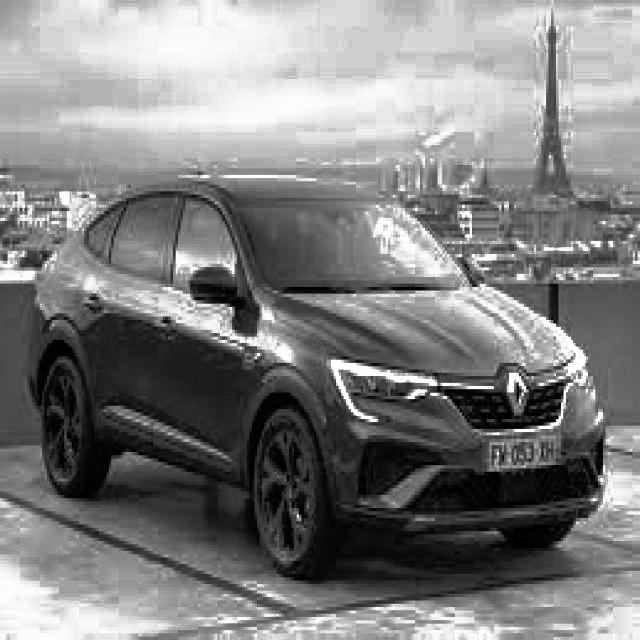Car: (22, 164, 612, 576)
